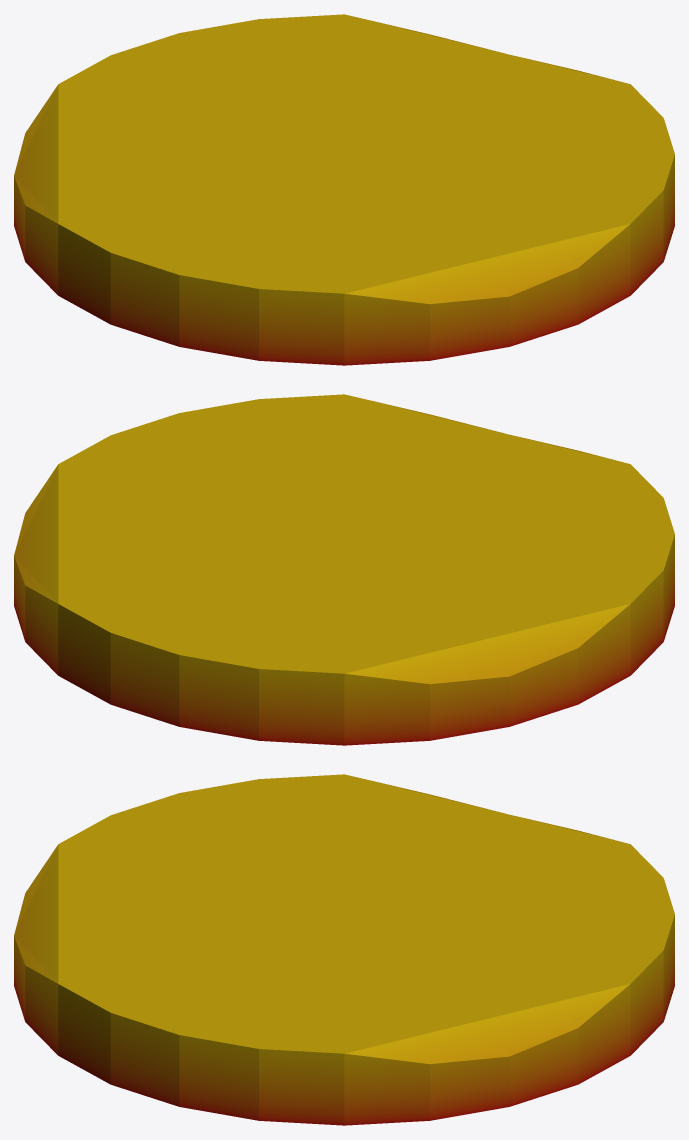
Rendered from plinth_round_broken.glb.
3 renders of one model, top to bottom at view 1: azimuth 30°, elevation 25°; view 2: azimuth 150°, elevation 25°; view 3: azimuth 270°, elevation 25°, orthographic.
Visible parts, largest first — view 1: plinth_round_broken; view 2: plinth_round_broken; view 3: plinth_round_broken.
Part boxes in pixels (x1,y1,x2,y2): plinth_round_broken: [14, 14, 674, 365]; plinth_round_broken: [14, 394, 674, 745]; plinth_round_broken: [14, 774, 674, 1125].
Size of what is drawn, in the model's own units: 10 by 1.2 by 10.
